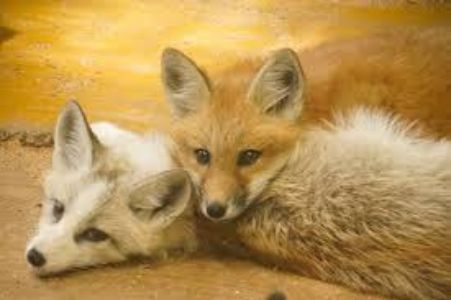fox: (161, 41, 450, 300), (15, 106, 191, 273)
